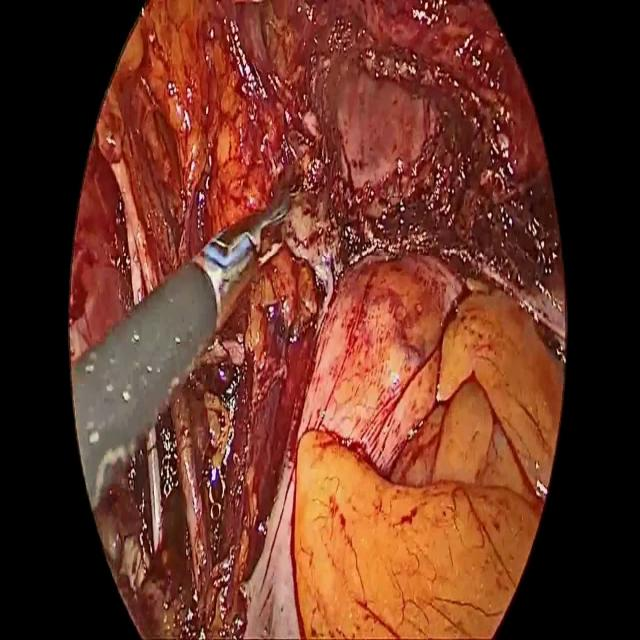surgical-area: (68, 0, 566, 639)
surgical-tool: (70, 180, 302, 510)
